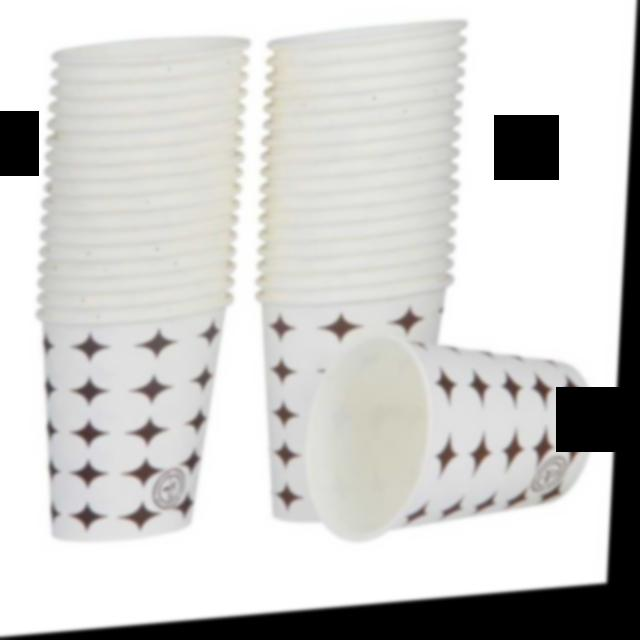karton-bardak: (280, 330, 612, 599)
